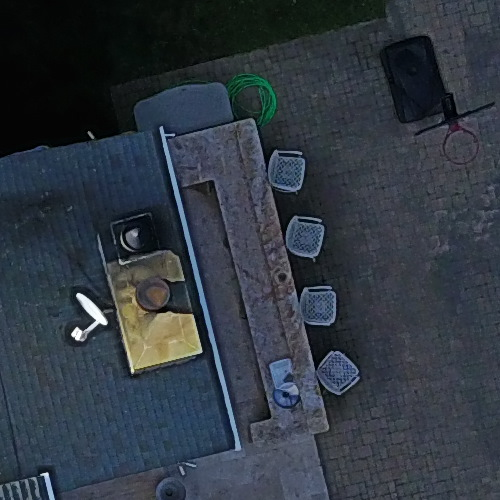container: (269, 266, 292, 288)
no larvae: (267, 264, 290, 286)
